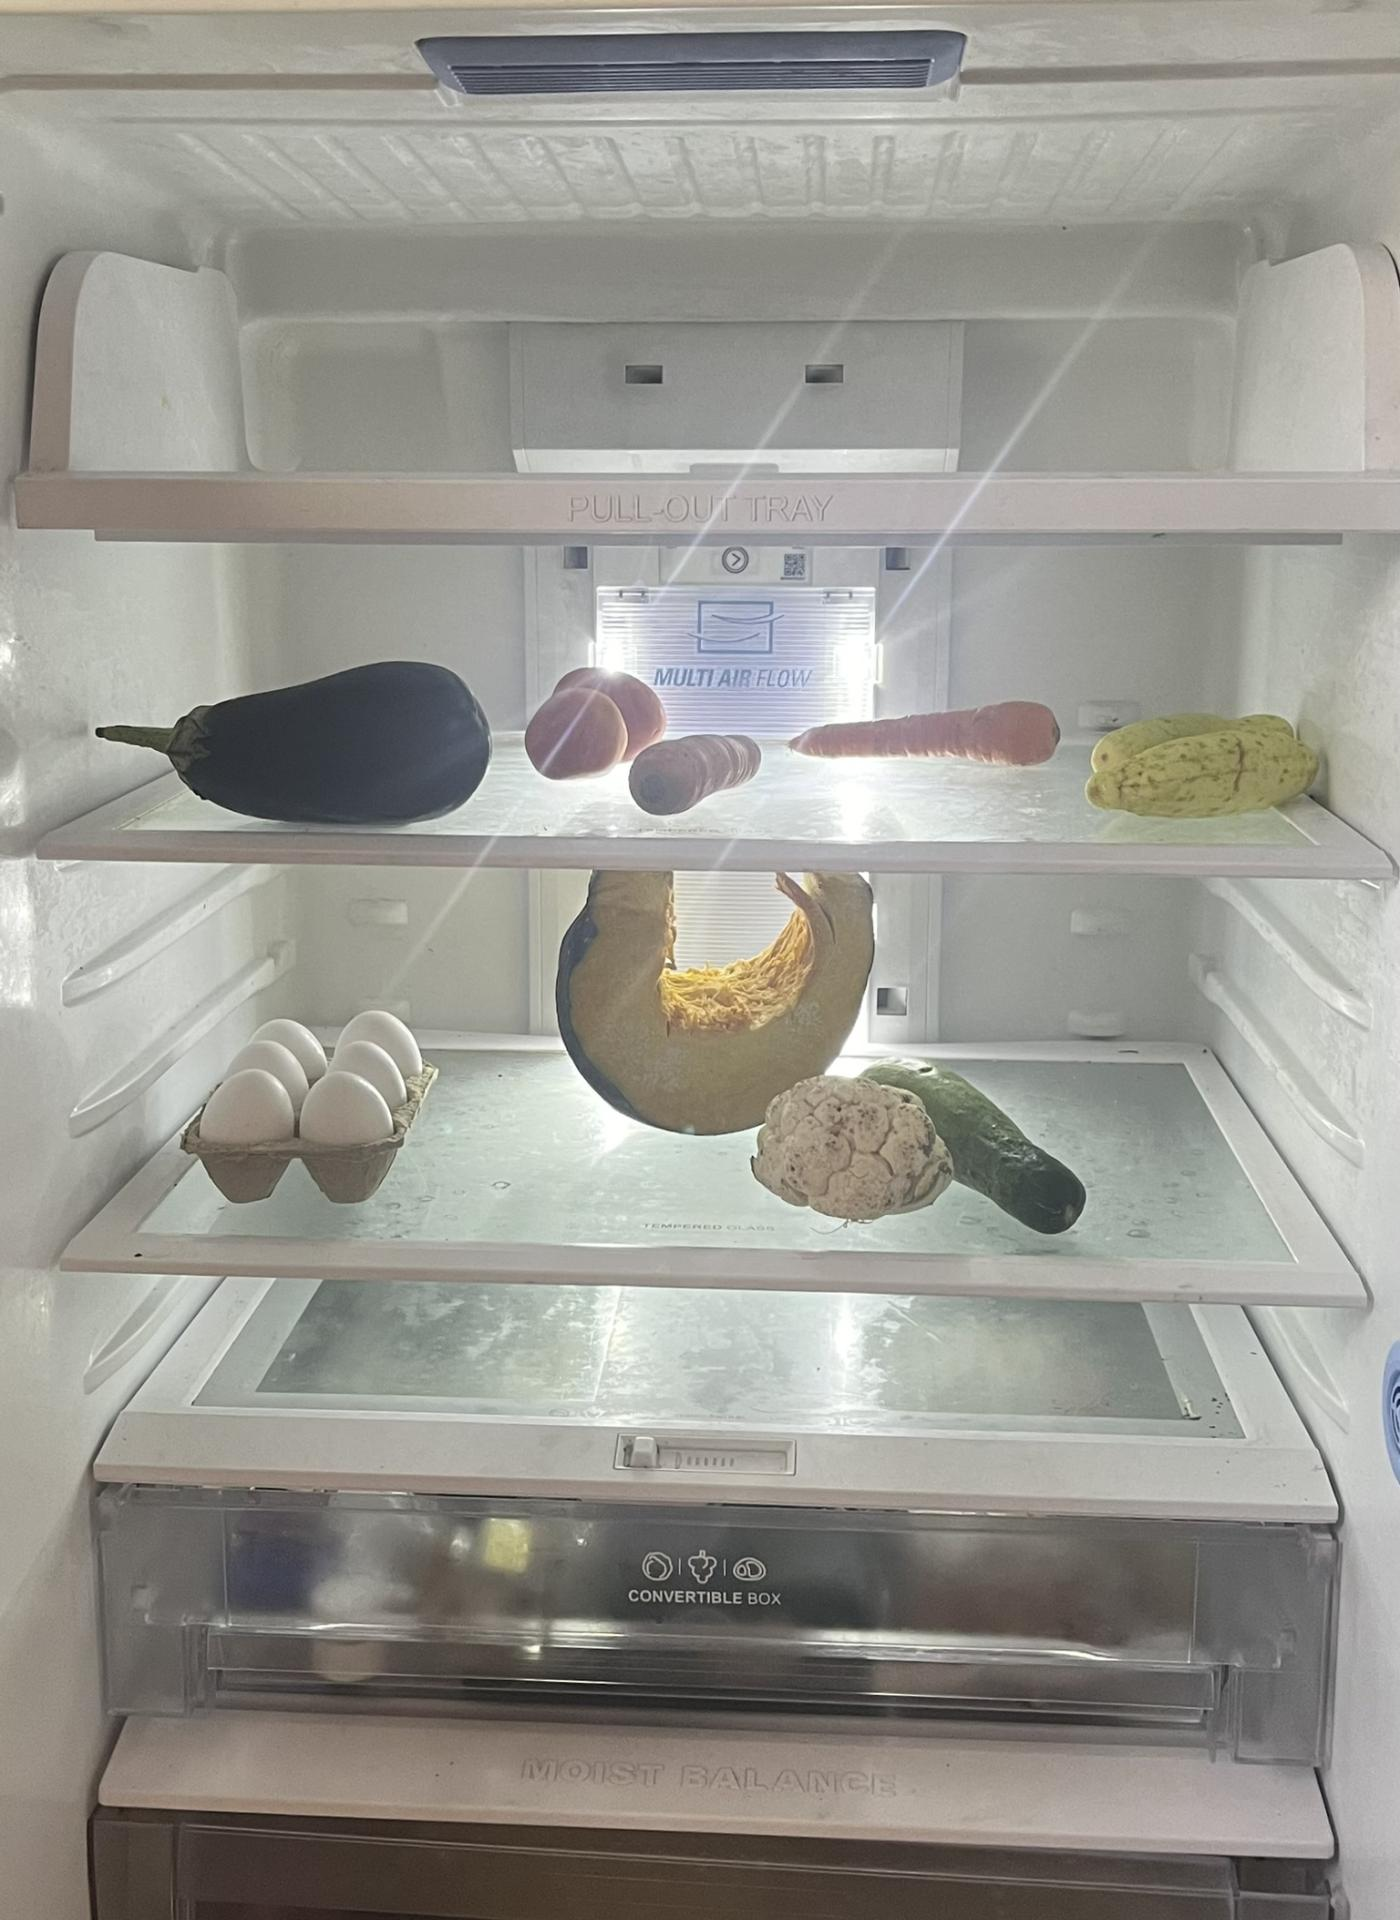carrots: (607, 729, 768, 812)
cauliflower: (744, 1078, 966, 1222)
cucumber: (851, 1057, 1106, 1246), (1078, 698, 1333, 821)
egg: (194, 1003, 434, 1191)
pumpkin: (568, 869, 878, 1131)
tomato: (525, 659, 677, 784)
